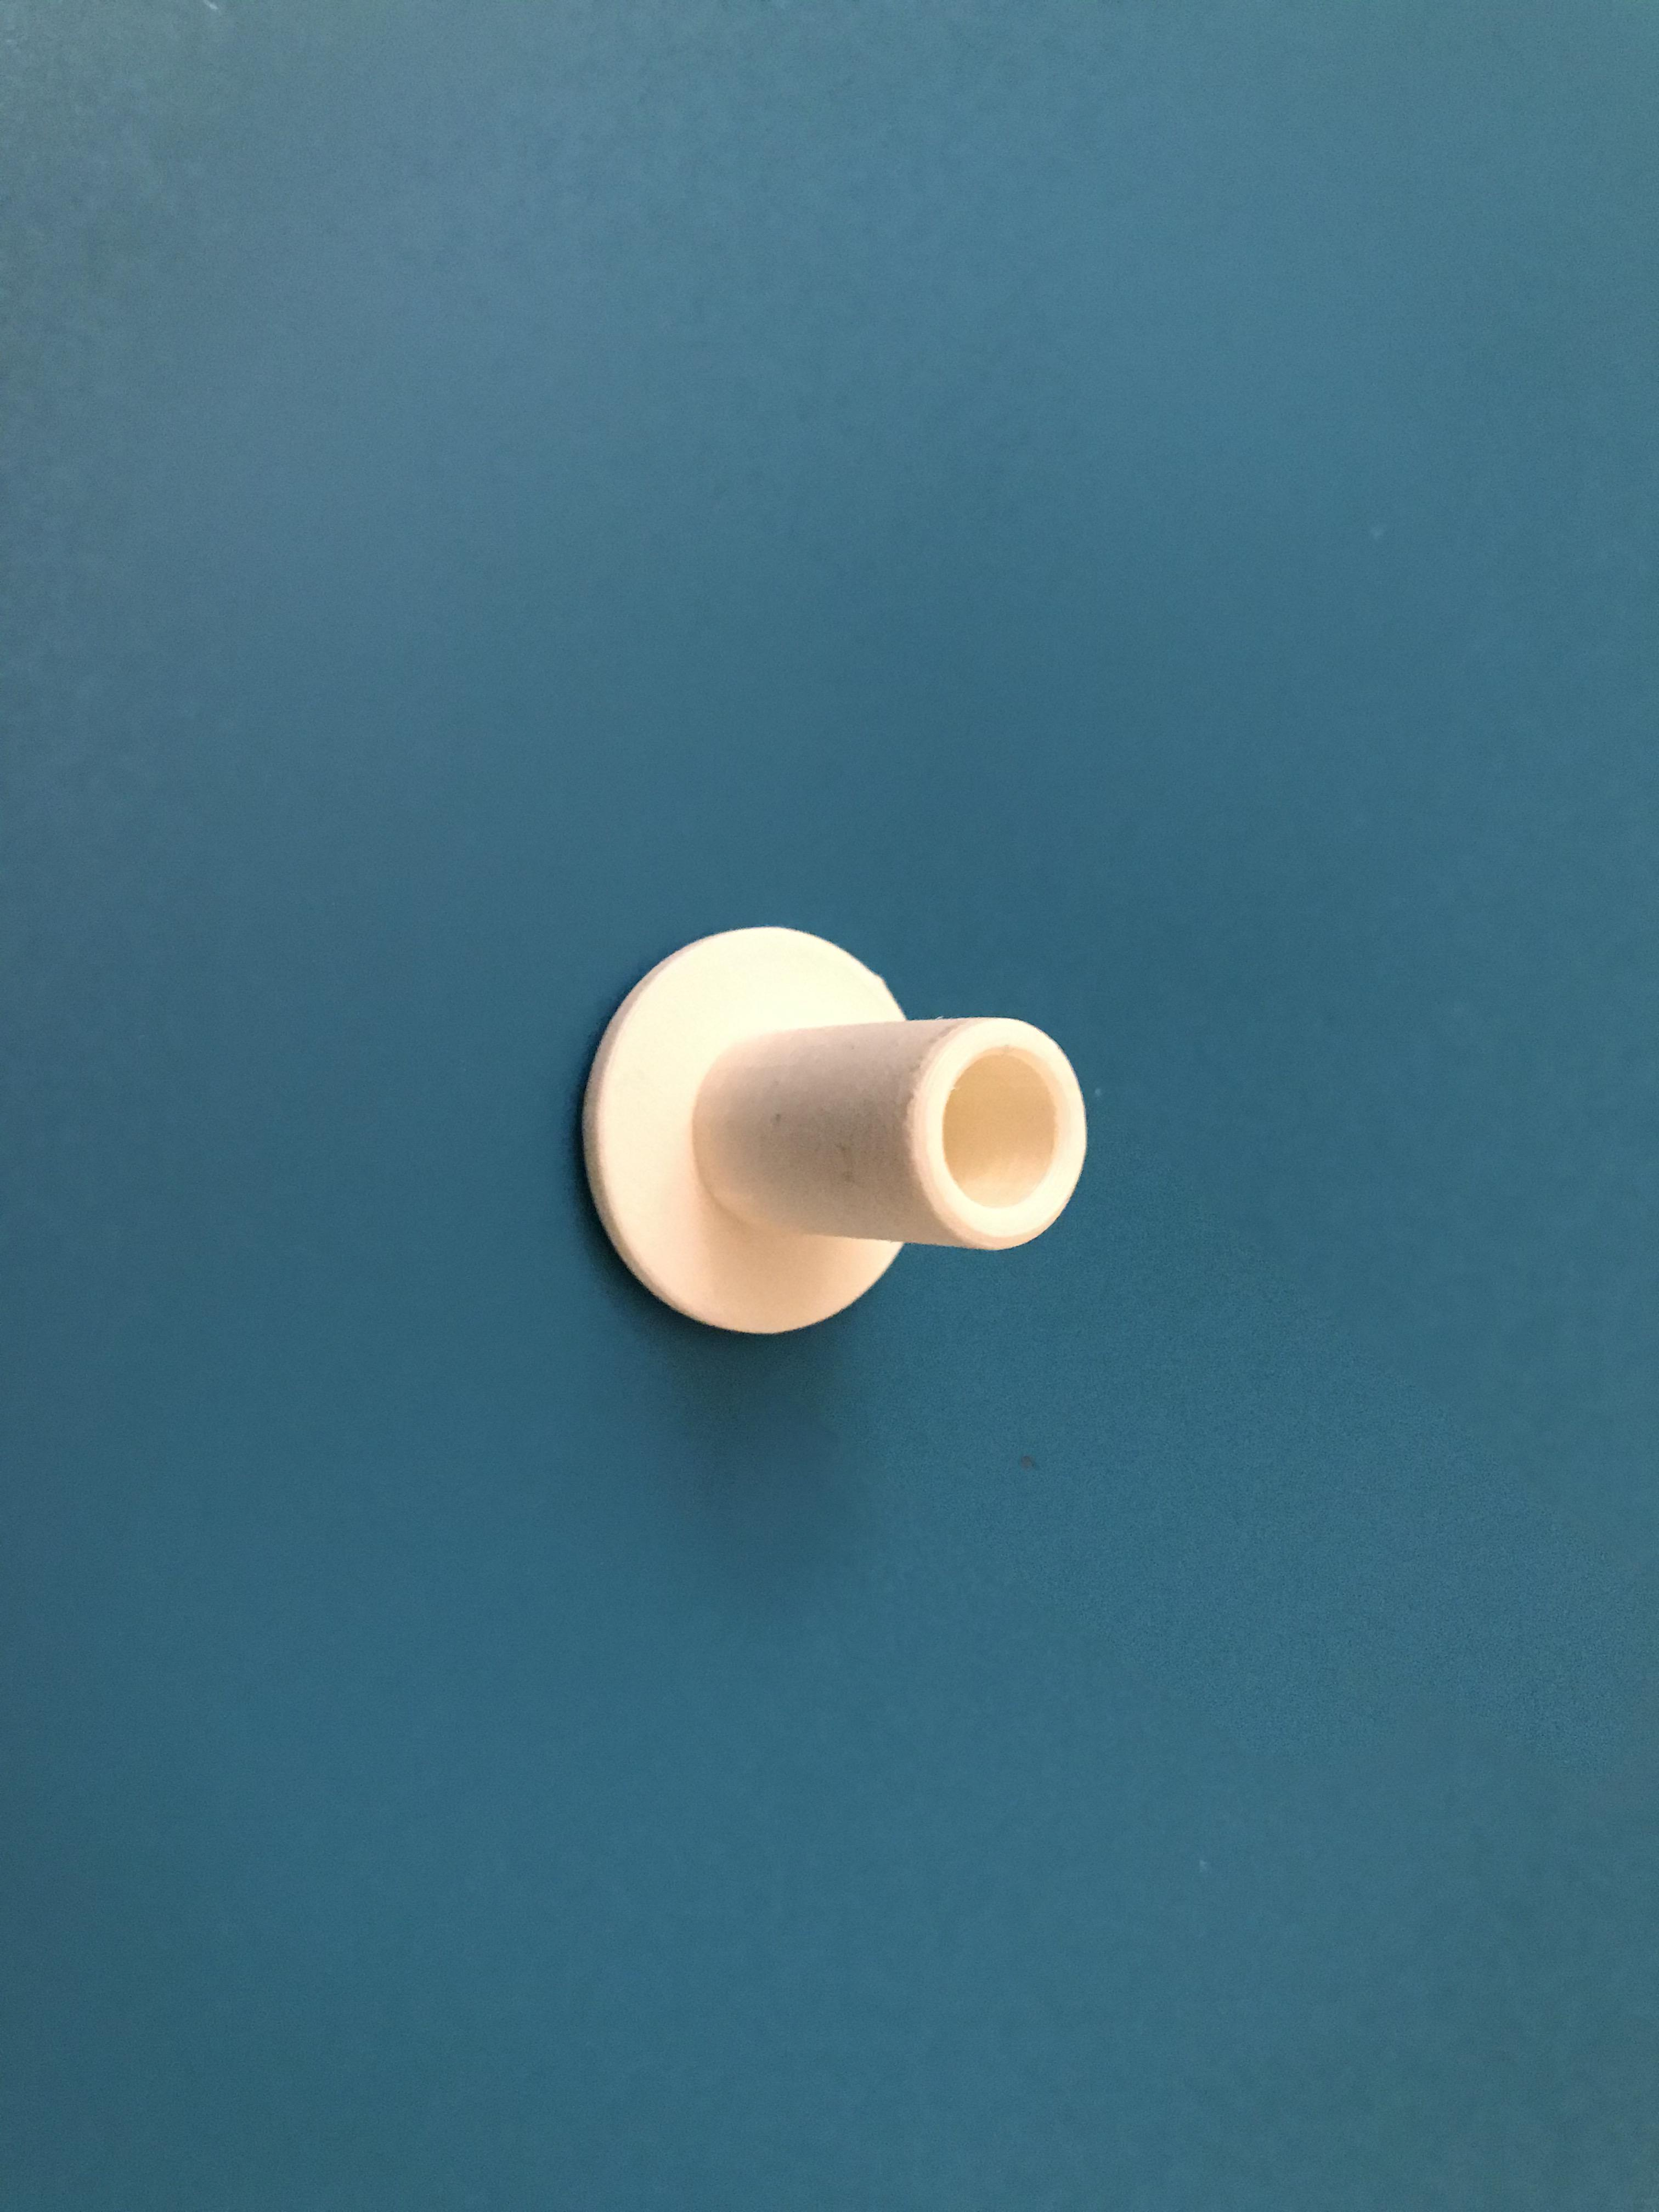White Cone: (556, 909, 1100, 1360)
